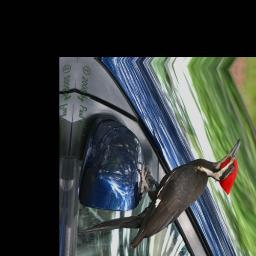Woodpecker: (76, 124, 242, 256)
